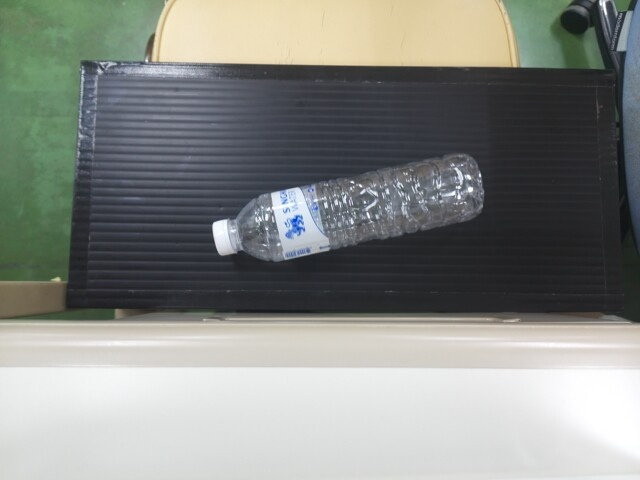plastic_bottle: (208, 162, 487, 258)
